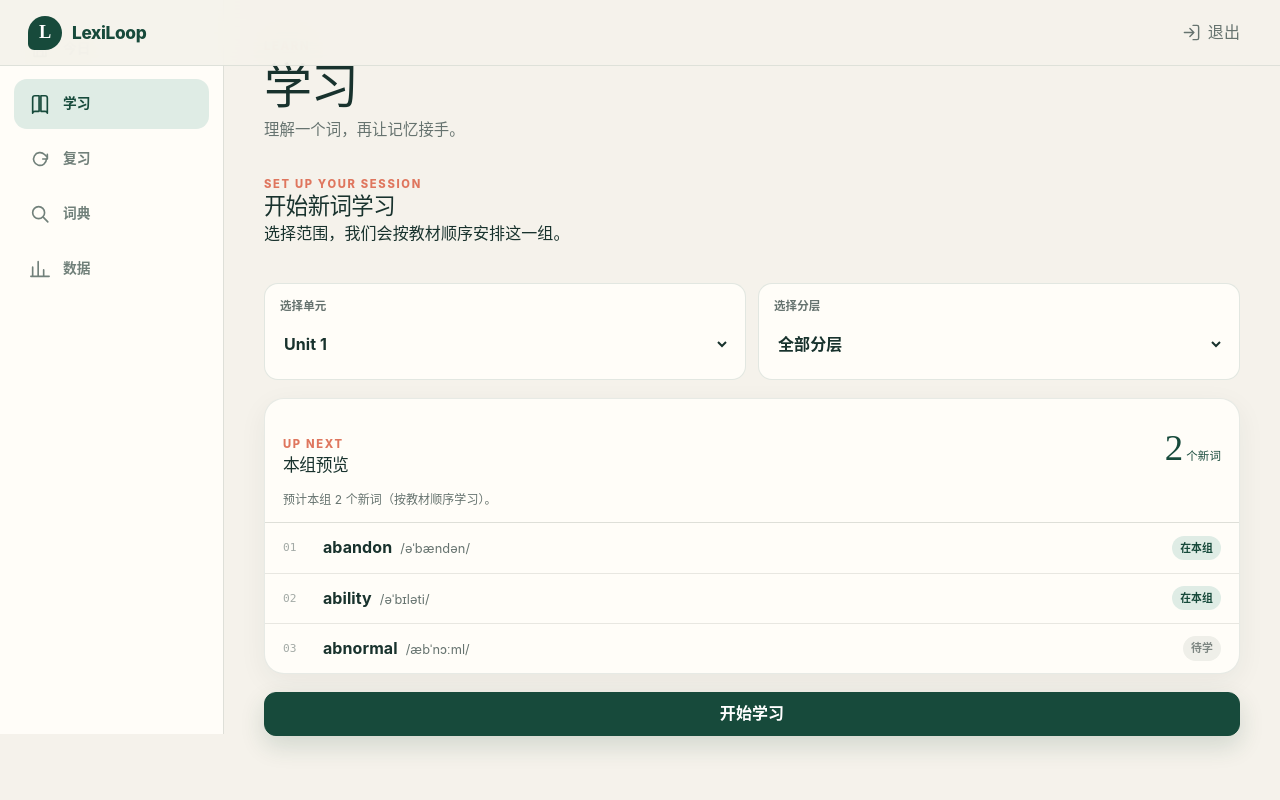
Test: new-word learning journey › retries a failed WORD_PRESENTED with the same event id before enabling familiarity
(page scrolled)
Check: the heading "学习" is shown, box [264,56,358,115]
Step 1. Click the button "开始学习" → coordinates (752, 714), box [264,692,1240,736]
(page scrolled)
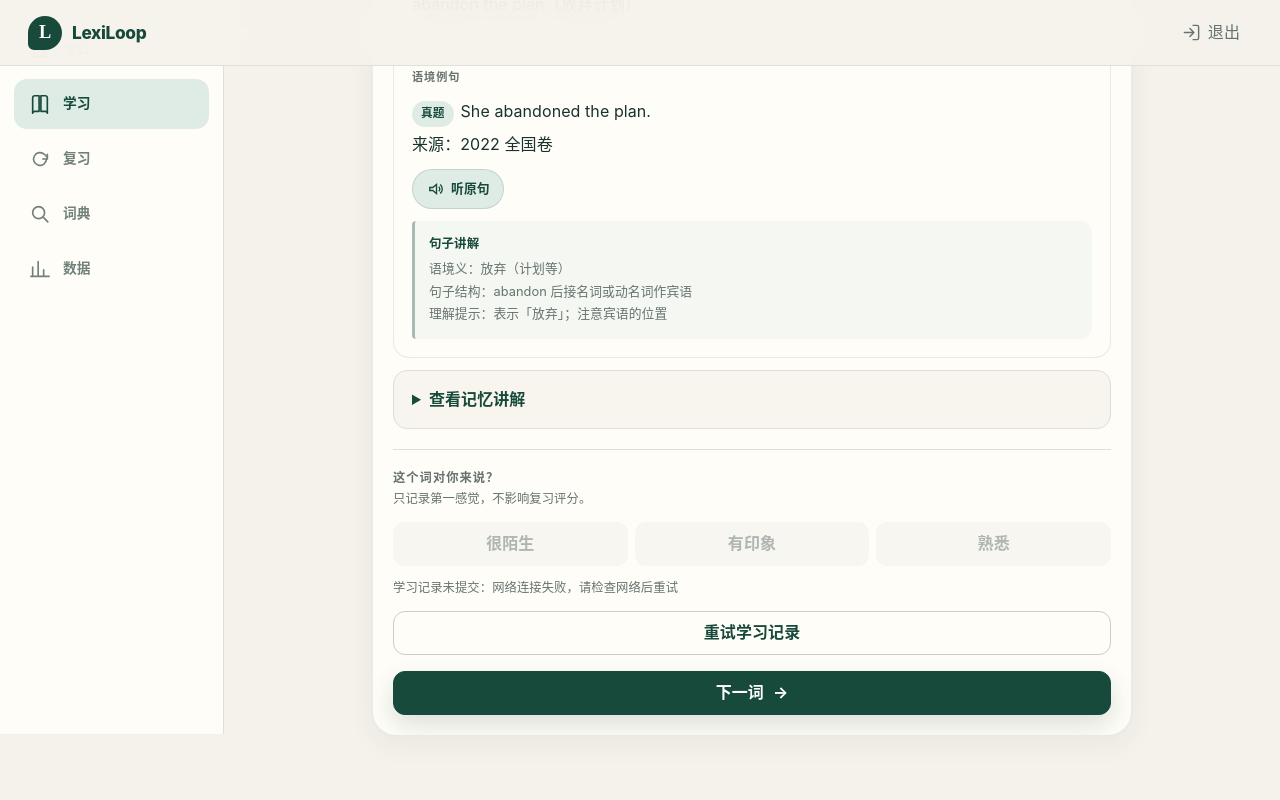
Check: the button "重试学习记录" is shown
Check: the button "很陌生" is disabled, box [393,522,628,566]
Step 2. Click the button "重试学习记录" → coordinates (752, 633), box [393,611,1111,655]
(page scrolled)
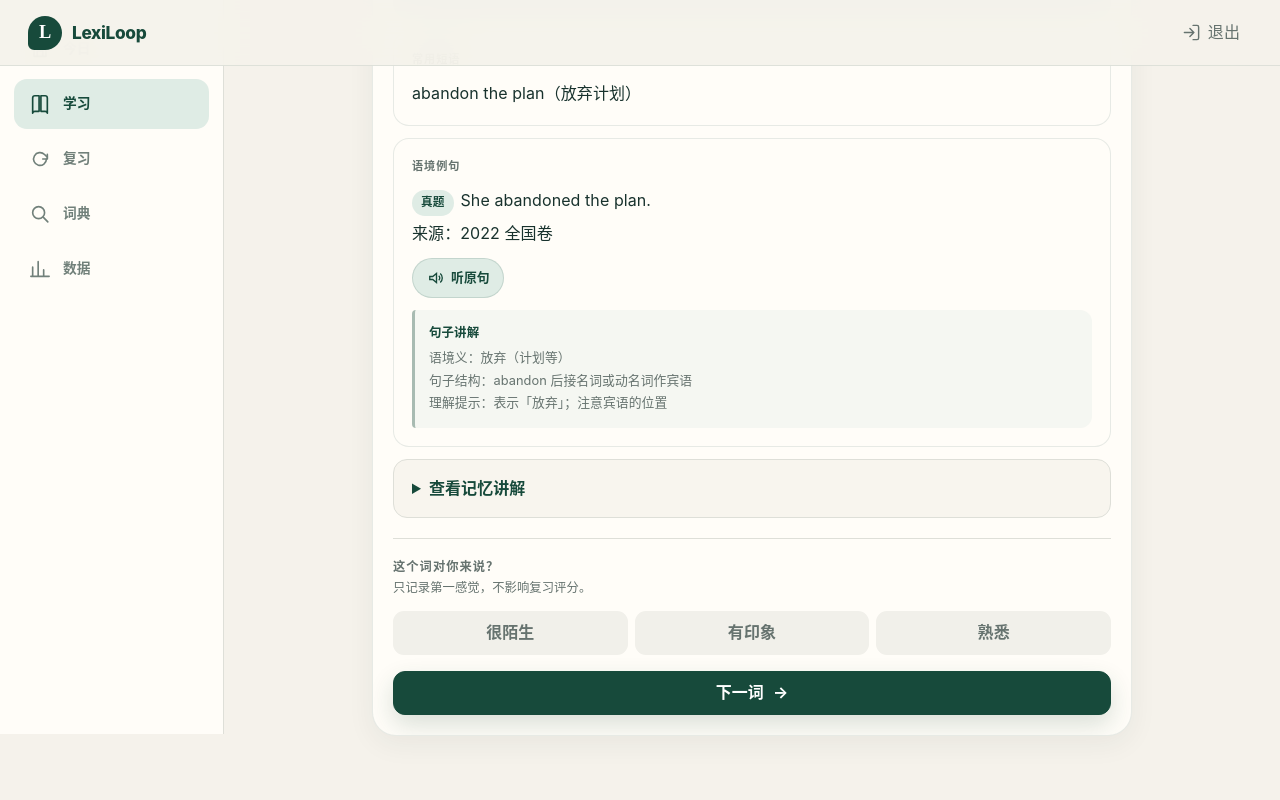
Check: the button "很陌生" is enabled, box [393,611,628,655]
